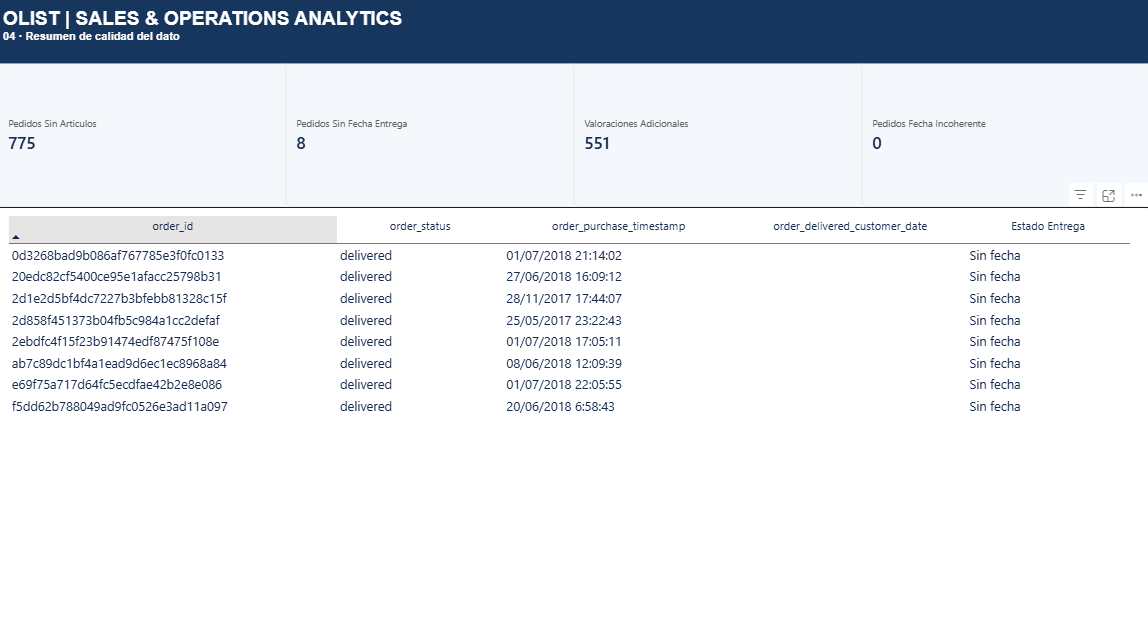

What the dashboard file says about the page in this screenshot:
{"tool":"powerbi","page":{"name":"Calidad del dato","canvas":[1920,1080],"ordinal":3},"visuals":[{"type":"cardVisual","fields":{"Data":["stgPedidos.Pedidos Sin Fecha Entrega"]},"box":[480,108.3,480,240],"z":0},{"type":"cardVisual","fields":{"Data":["stgPedidos.Valoraciones Adicionales"]},"box":[960,108.3,480,240],"z":1000},{"type":"cardVisual","fields":{"Data":["stgPedidos.Pedidos Fecha Incoherente"]},"box":[1440,108.3,480,240],"z":2000},{"type":"cardVisual","fields":{"Data":["stgPedidos.Pedidos Sin Articulos"]},"box":[0,108.3,480,240],"z":3000},{"type":"tableEx","fields":{"Values":["stgPedidos.order_id","stgPedidos.order_status","stgPedidos.order_purchase_timestamp","stgPedidos.order_delivered_customer_date","stgPedidos.Estado Entrega"]},"box":[0,348.3,1920,731.7],"z":4000},{"type":"shape","box":[0,0,1920.3,109.1],"z":5000},{"type":"textbox","box":[8.3,16.7,898.3,118.3],"z":6000}]}

Visuals, with their boxes in screenshot pixels (x1, y1, x2, y2), scaled from the page's 1920x1080 canvas onto the 1148x641 screenshot:
cardVisual - stgPedidos.Pedidos Sin Fecha Entrega: 287:64:574:207
cardVisual - stgPedidos.Valoraciones Adicionales: 574:64:861:207
cardVisual - stgPedidos.Pedidos Fecha Incoherente: 861:64:1147:207
cardVisual - stgPedidos.Pedidos Sin Articulos: 0:64:287:207
tableEx - stgPedidos.order_id x stgPedidos.order_status: 0:207:1147:640
shape: 0:0:1147:65
textbox: 5:10:542:80
